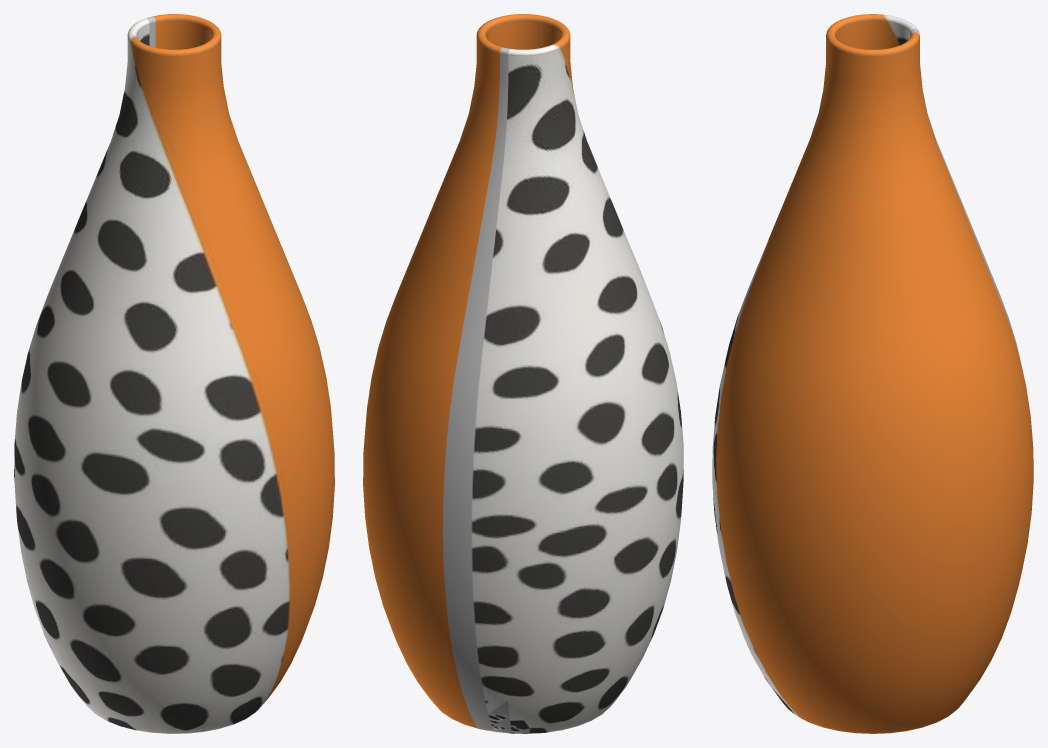
File: vase-model.glb
3 views of the same model, side by side, from view 1: azimuth 30°, elevation 25°; view 2: azimuth 150°, elevation 25°; view 3: azimuth 270°, elevation 25° (orthographic).
Visible parts, largest first — view 1: medium_vase_bottle_mesh_n3d; view 2: medium_vase_bottle_mesh_n3d; view 3: medium_vase_bottle_mesh_n3d.
Part boxes in pixels (left/top/right/bottom): medium_vase_bottle_mesh_n3d: left=14, top=14, right=334, bottom=733; medium_vase_bottle_mesh_n3d: left=363, top=14, right=683, bottom=733; medium_vase_bottle_mesh_n3d: left=712, top=14, right=1033, bottom=733.
Bounding box in the file's own units: 0.236 × 0.5387 × 0.236.
Materials: 1 (1 with a texture image).
